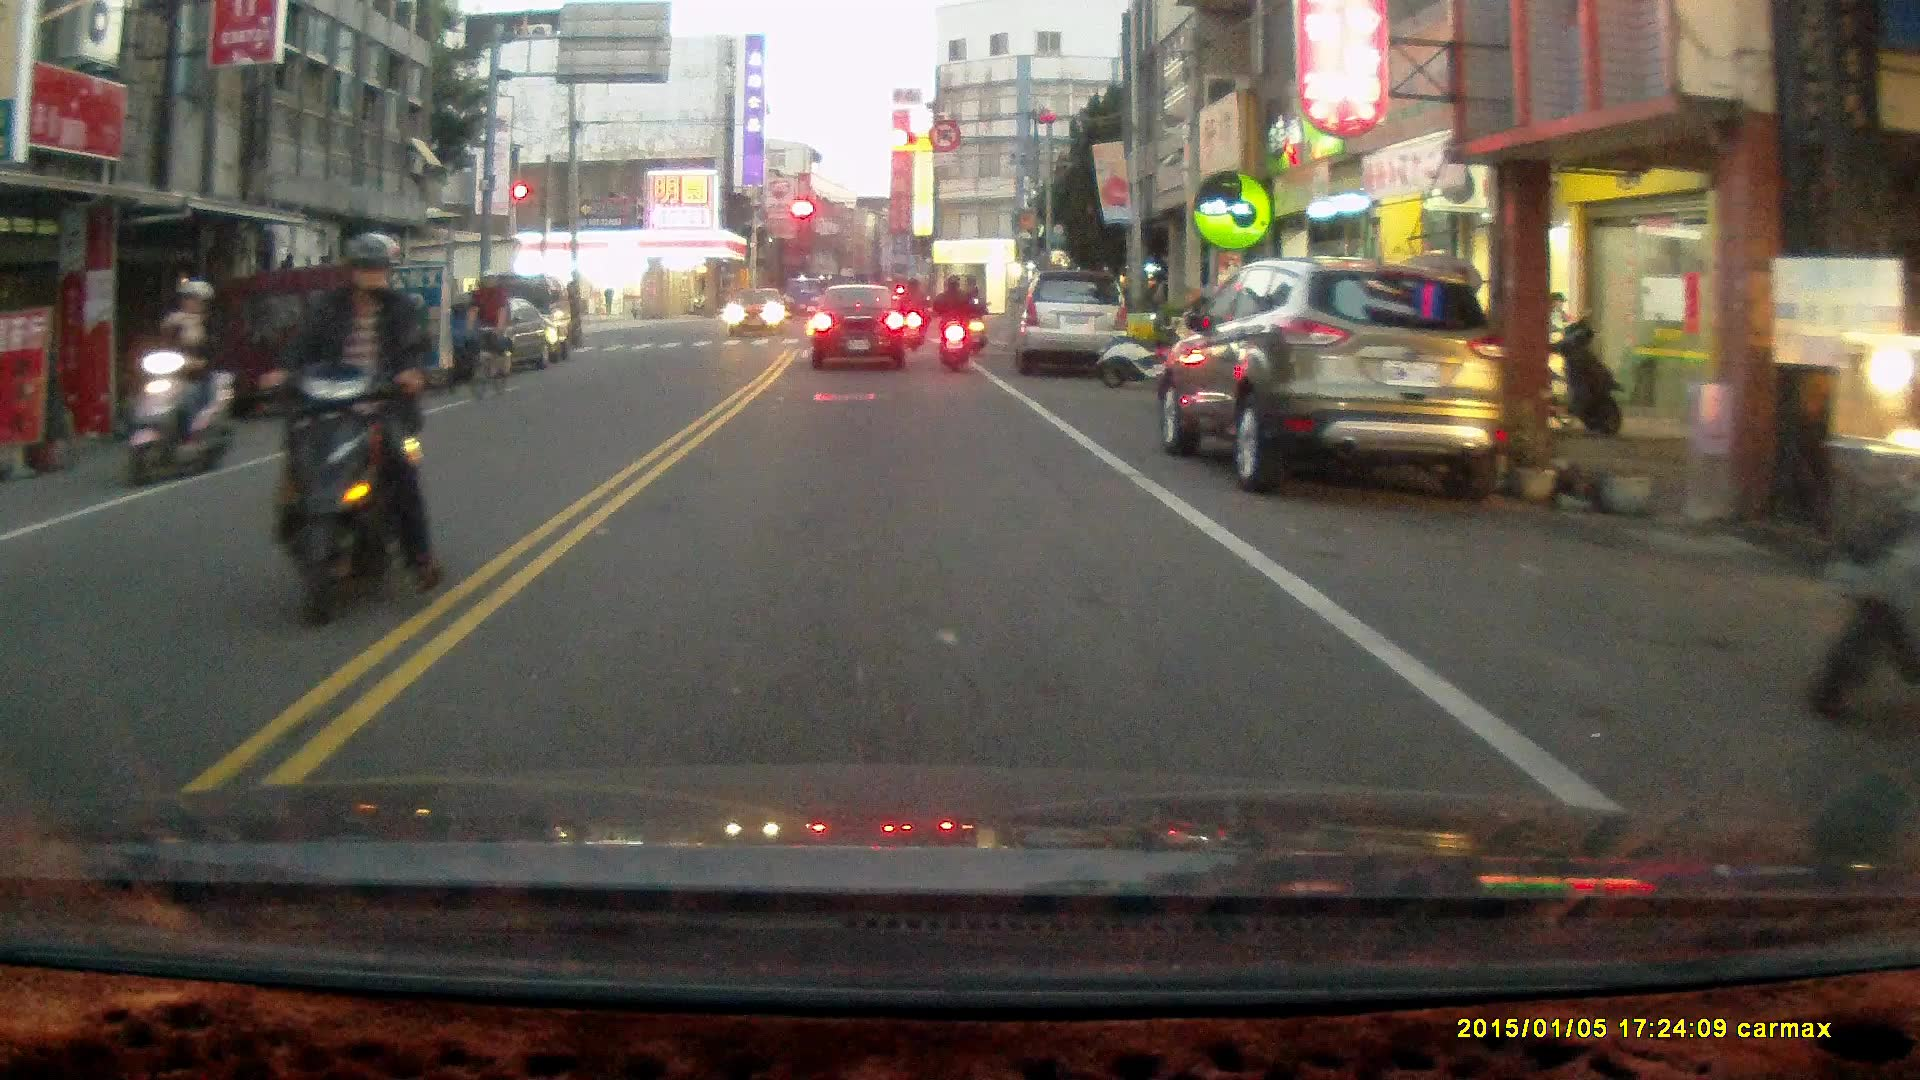rider: (246, 228, 444, 624), (121, 278, 237, 487), (465, 269, 511, 401), (928, 270, 975, 374), (896, 274, 929, 351), (961, 283, 988, 353)
vehicle: (1162, 255, 1503, 503), (1019, 270, 1134, 379), (813, 282, 913, 366), (720, 279, 784, 334)
